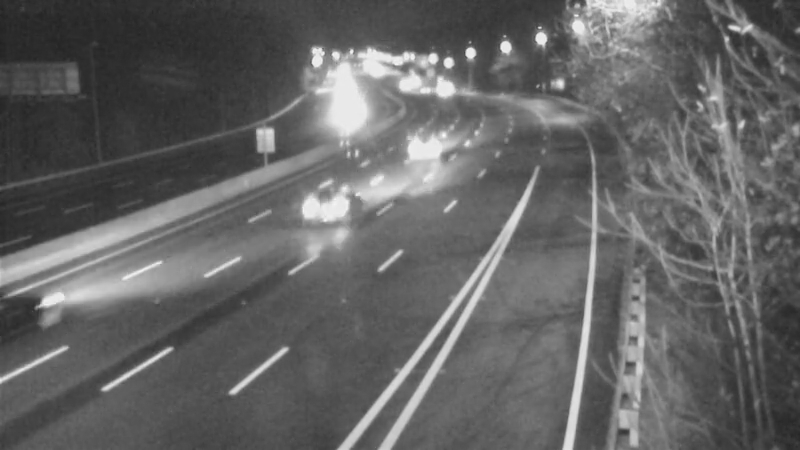vehicle: (290, 171, 370, 251), (397, 66, 447, 116), (413, 66, 463, 116), (407, 119, 457, 169)
